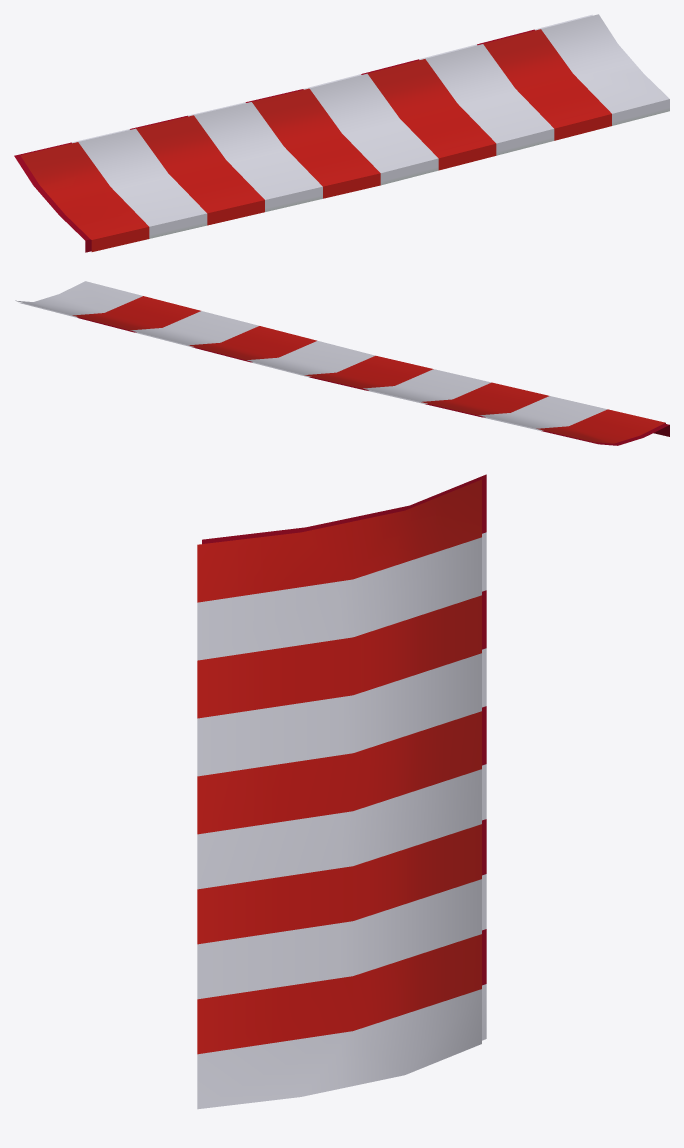
Rendered from Awning_01.fbx.
The picture shows the model from 3 angles, top to bottom: view 1: azimuth 30°, elevation 25°; view 2: azimuth 150°, elevation 25°; view 3: azimuth 270°, elevation 25°; orthographic projection. The views are drawn at different scales.
Parts seen in each view (by area): view 1: Awning_01; view 2: Awning_01; view 3: Awning_01.
Boxes of the visible parts, left/top/right/bottom form: Awning_01: left=14, top=14, right=669, bottom=252; Awning_01: left=15, top=281, right=669, bottom=445; Awning_01: left=197, top=474, right=486, bottom=1109.
Bounding box in the file's own units: 4.45 × 0.3536 × 0.9542.
